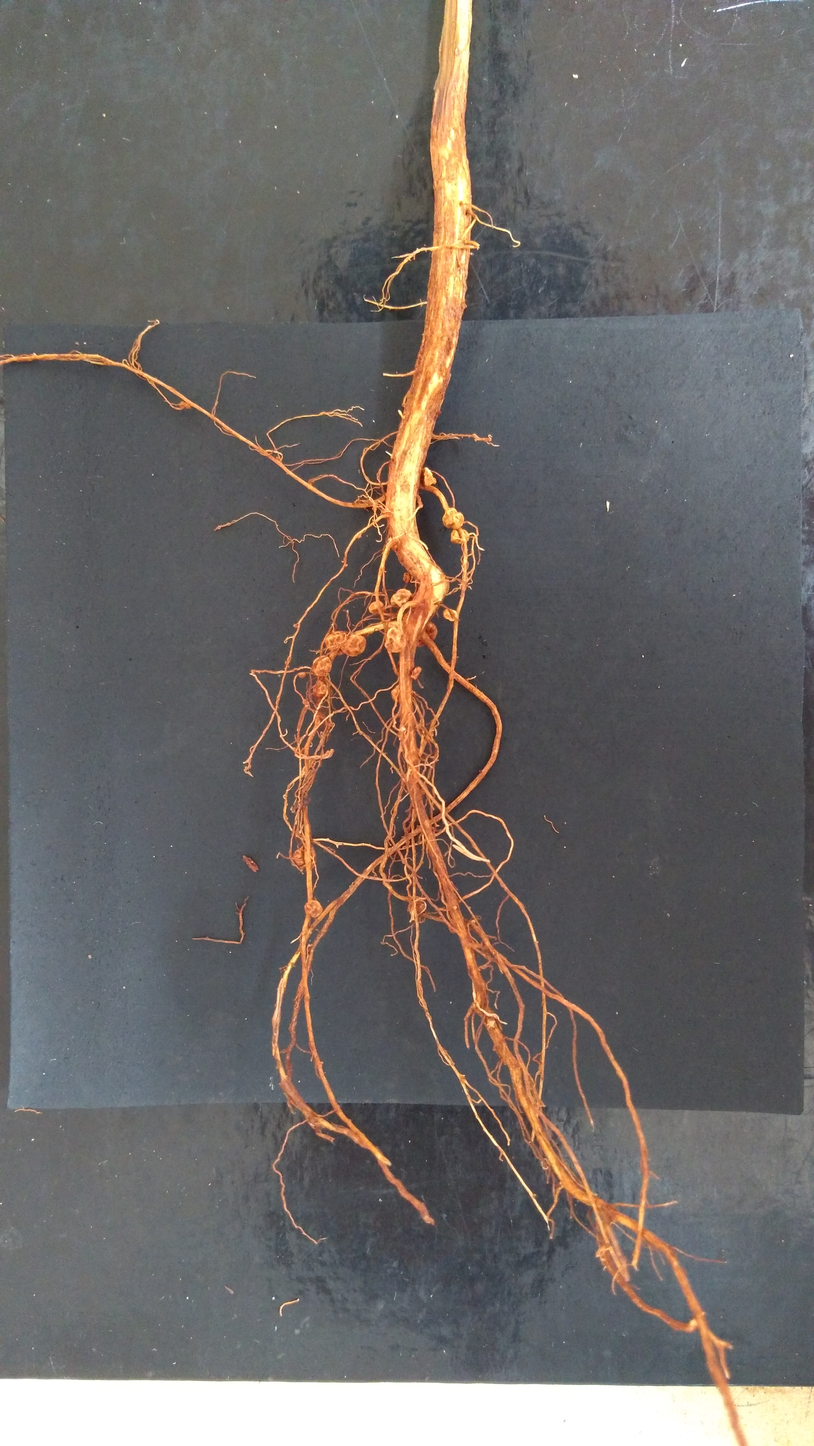nodule: (292, 844, 316, 870), (341, 634, 366, 657), (385, 627, 406, 653), (325, 631, 347, 655), (417, 622, 437, 648), (442, 508, 464, 529), (312, 655, 332, 676), (390, 589, 411, 607), (304, 900, 323, 917), (420, 467, 436, 487), (290, 797, 310, 813), (312, 680, 327, 698), (451, 529, 469, 543), (408, 901, 426, 915), (368, 601, 385, 615), (443, 609, 457, 622), (410, 666, 421, 680), (391, 685, 400, 702), (179, 400, 191, 410), (380, 509, 389, 518), (403, 573, 410, 583), (276, 456, 283, 464), (298, 672, 306, 678), (293, 623, 299, 628), (357, 534, 361, 539)
